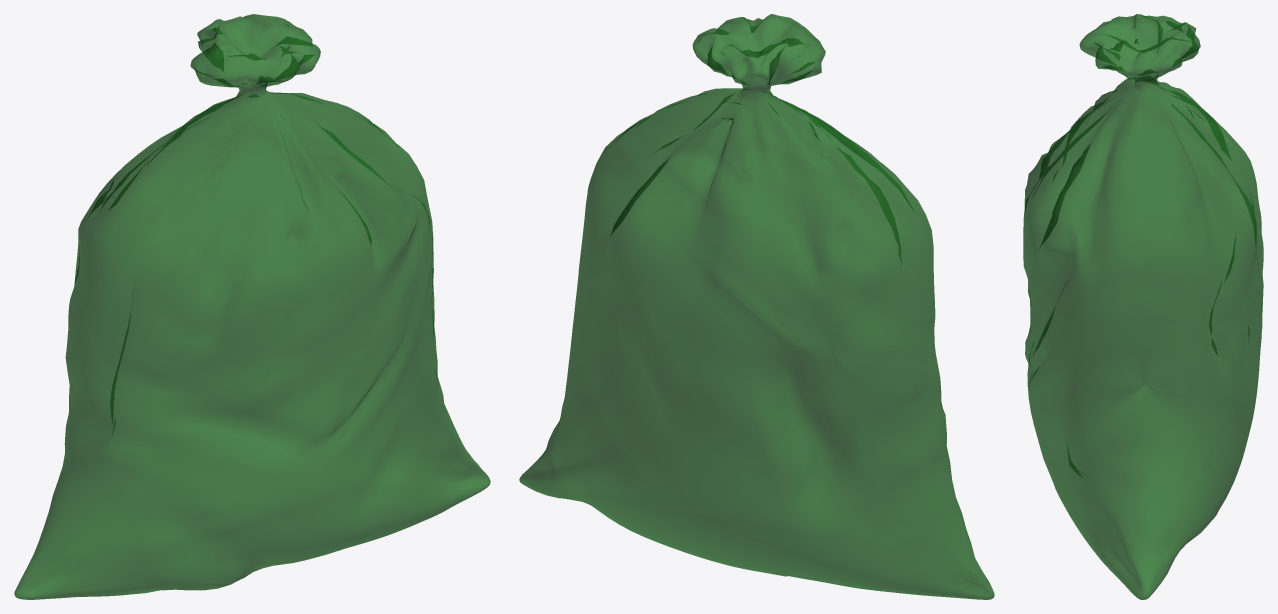
The model's file is BolsaDeCoca.fbx.
3 renders of one model, left to right at view 1: azimuth 30°, elevation 25°; view 2: azimuth 150°, elevation 25°; view 3: azimuth 270°, elevation 25°, orthographic. The views are drawn at different scales.
Parts seen in each view (by area): view 1: Bag.001; view 2: Bag.001; view 3: Bag.001.
Boxes of the visible parts, x1=… form: Bag.001: x1=14, y1=14, x2=490, y2=599; Bag.001: x1=519, y1=14, x2=994, y2=599; Bag.001: x1=1023, y1=14, x2=1263, y2=599.
Size of the model in its own units: 0.903 by 0.9361 by 0.4321.
